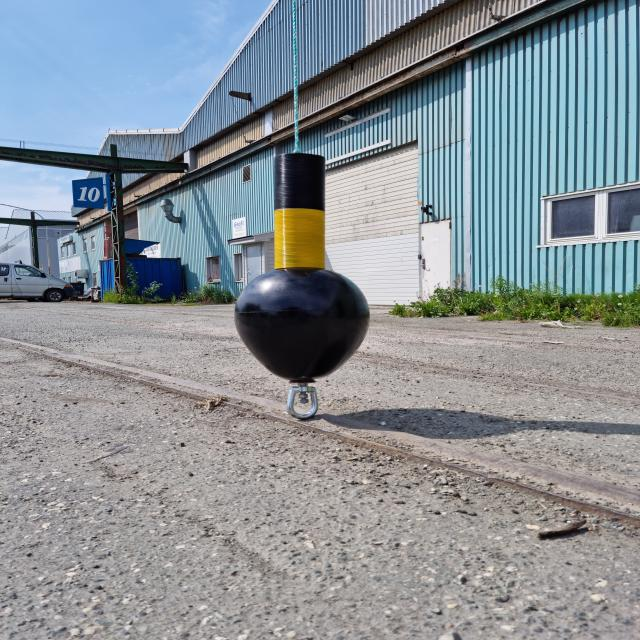east: (233, 153, 371, 382)
